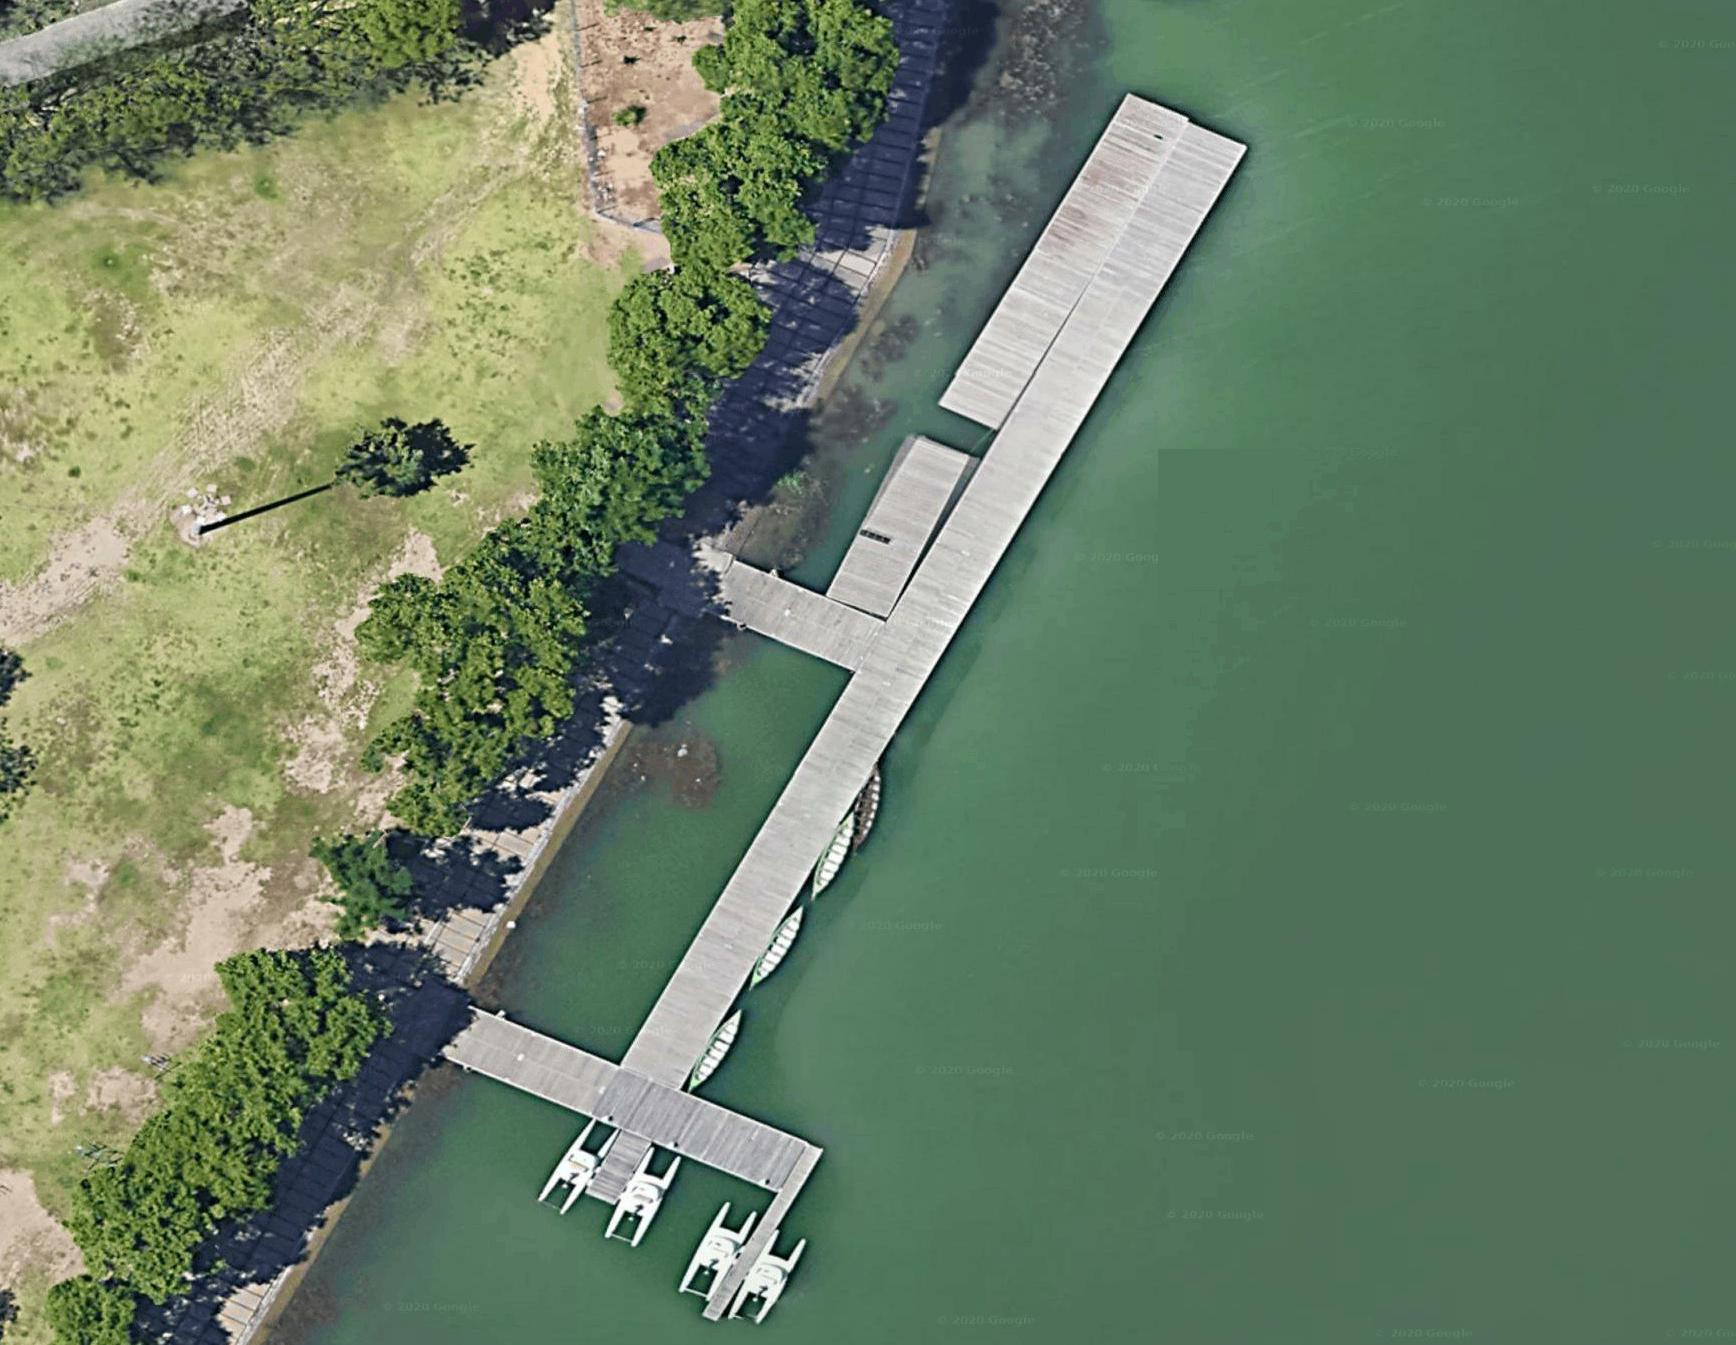harbor: (420, 73, 1281, 1314)
